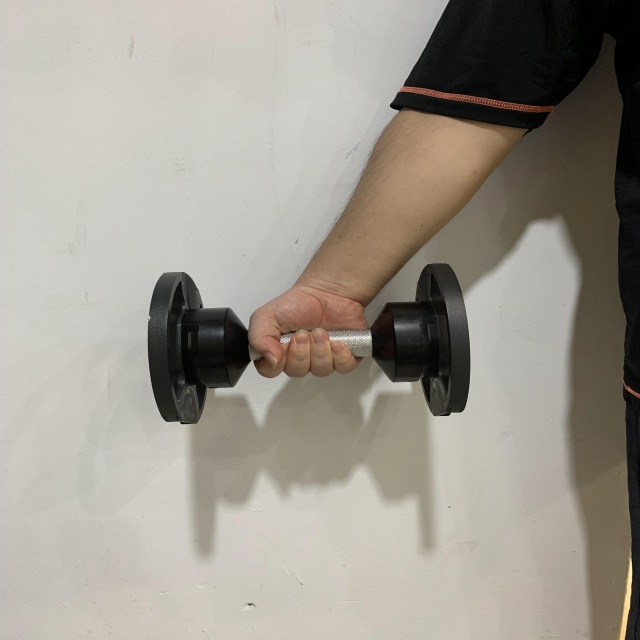01-2kg: (143, 260, 477, 424)
